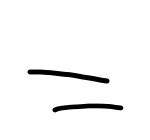eqv: (24, 65, 124, 112)
